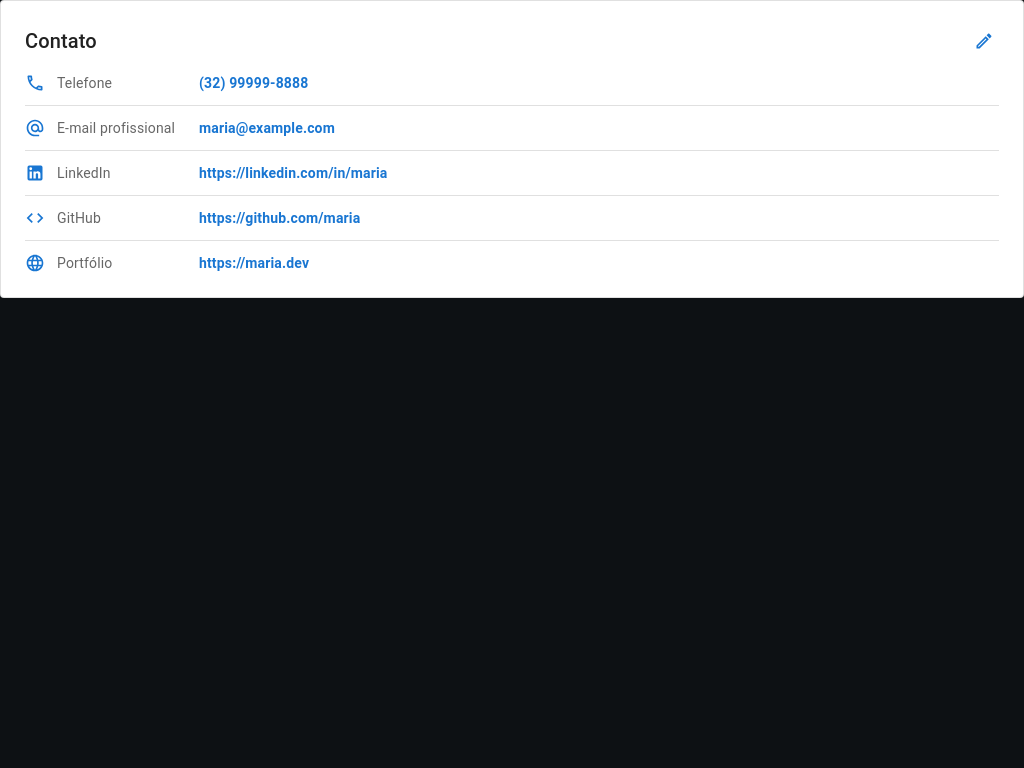
Test case: ContatoSection form › drops an earlier API error when the next attempt is stopped by a field error
Click the button named "Editar contato" at (984, 41), box top-left (969, 26), bottom-right (999, 56)
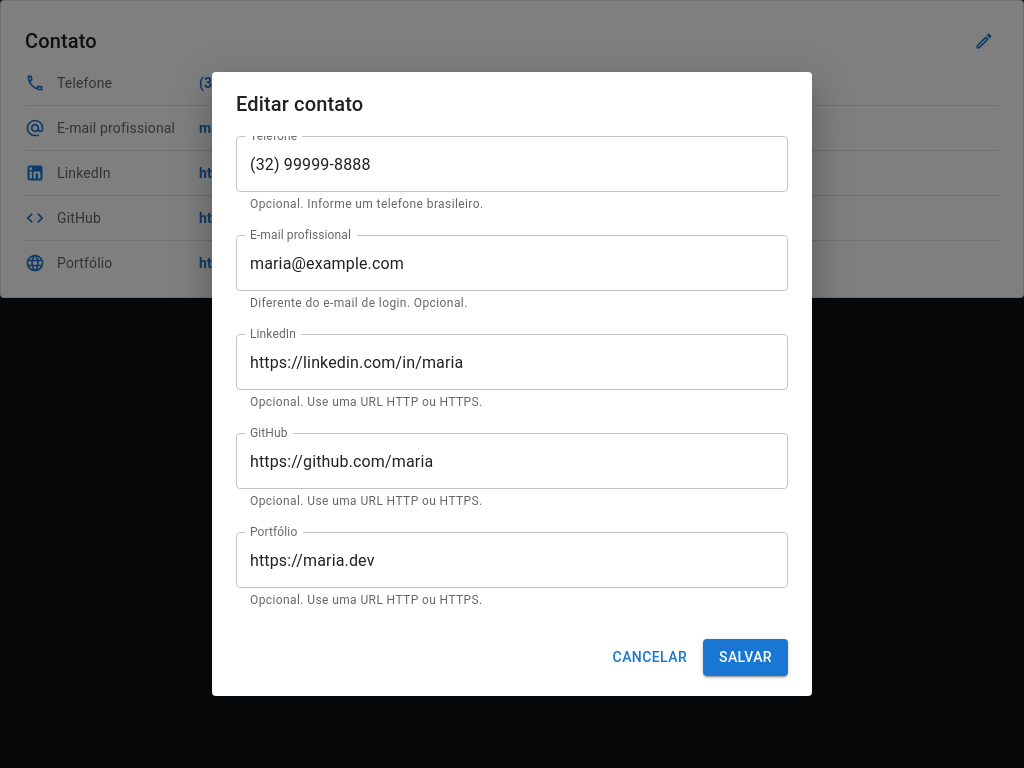
Click the button "Salvar" at (746, 657), box top-left (703, 639), bottom-right (788, 676)
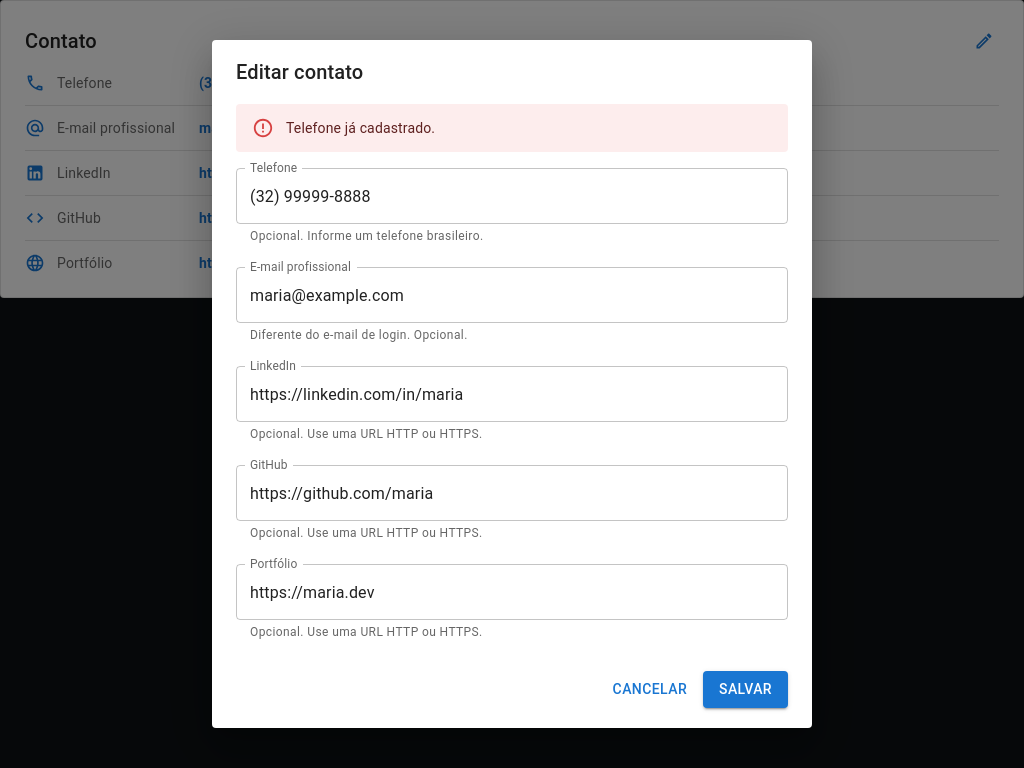
Now the message "Telefone já cadastrado." is shown, box top-left (236, 104), bottom-right (788, 152)
Replace the text in the field labelled "E-mail profissional" with "maria@semponto" at (512, 295), box top-left (236, 267), bottom-right (788, 323)
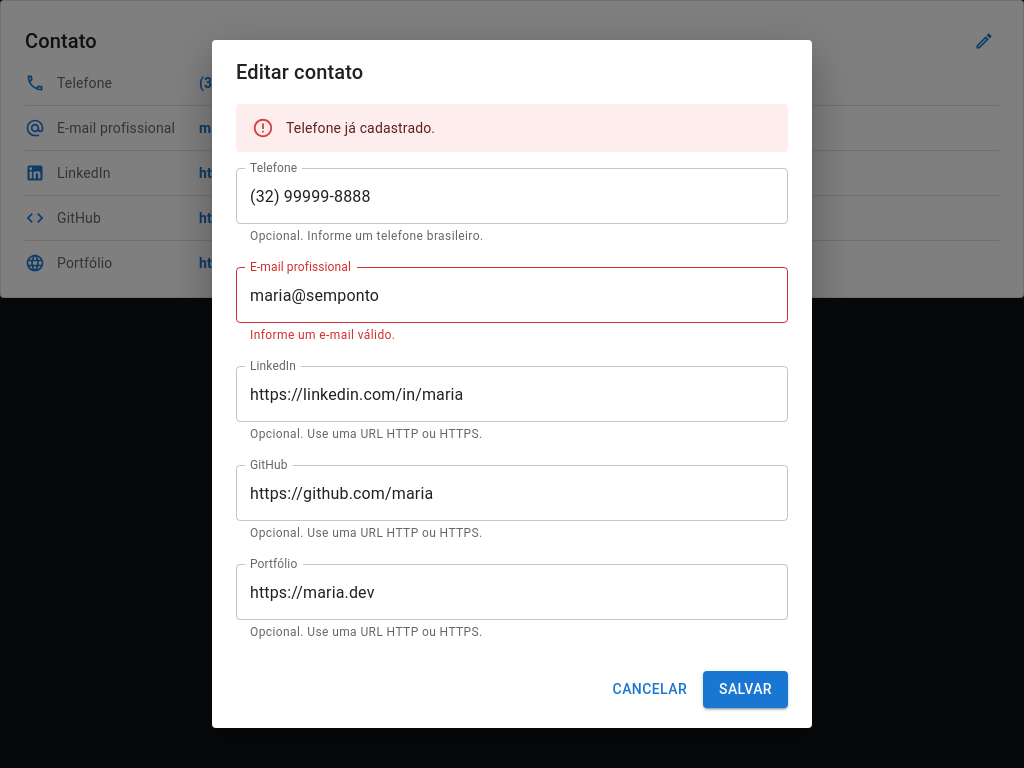
Click the button "Salvar" at (746, 689), box top-left (703, 671), bottom-right (788, 708)
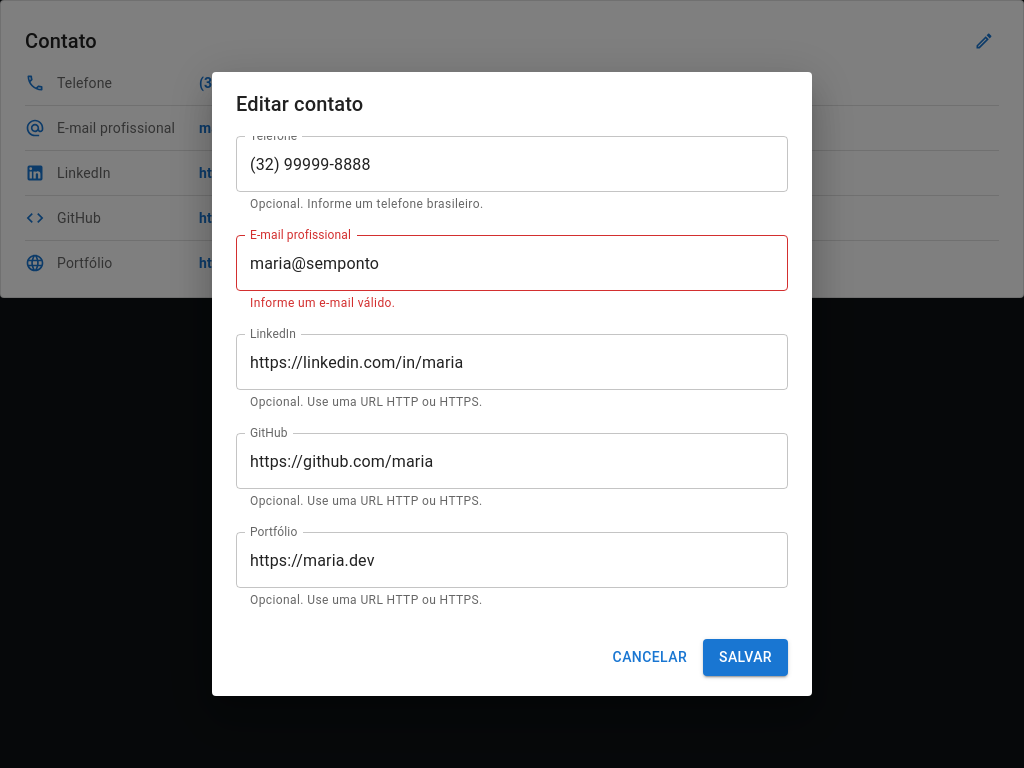
Now the text "Informe um e-mail válido." is shown, box top-left (250, 296), bottom-right (395, 310)
Now the message "Telefone já cadastrado." is gone
